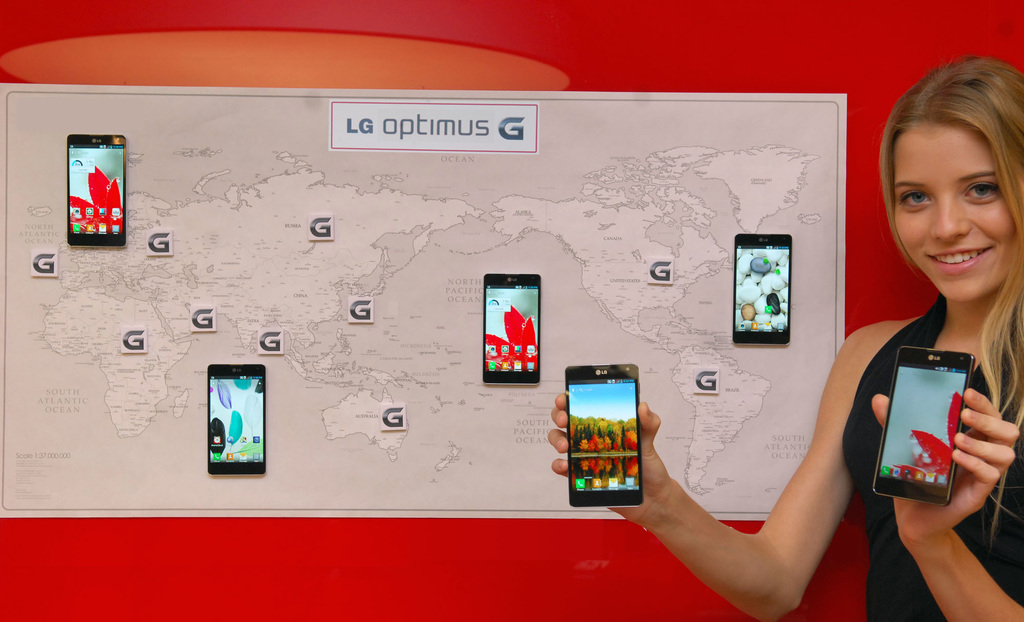Mobile-phone: (870, 345, 974, 511), (562, 361, 646, 510), (204, 361, 271, 477), (65, 134, 128, 249), (479, 271, 540, 387), (732, 232, 792, 346)
